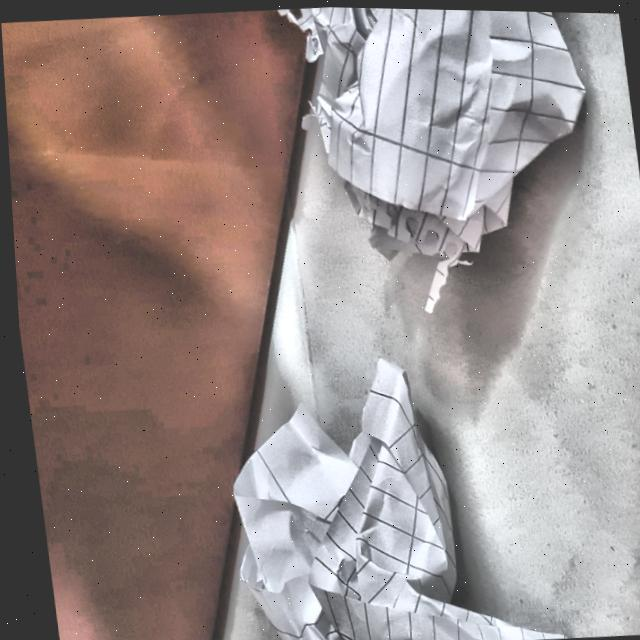paper: (212, 365, 571, 640), (277, 5, 601, 290)
